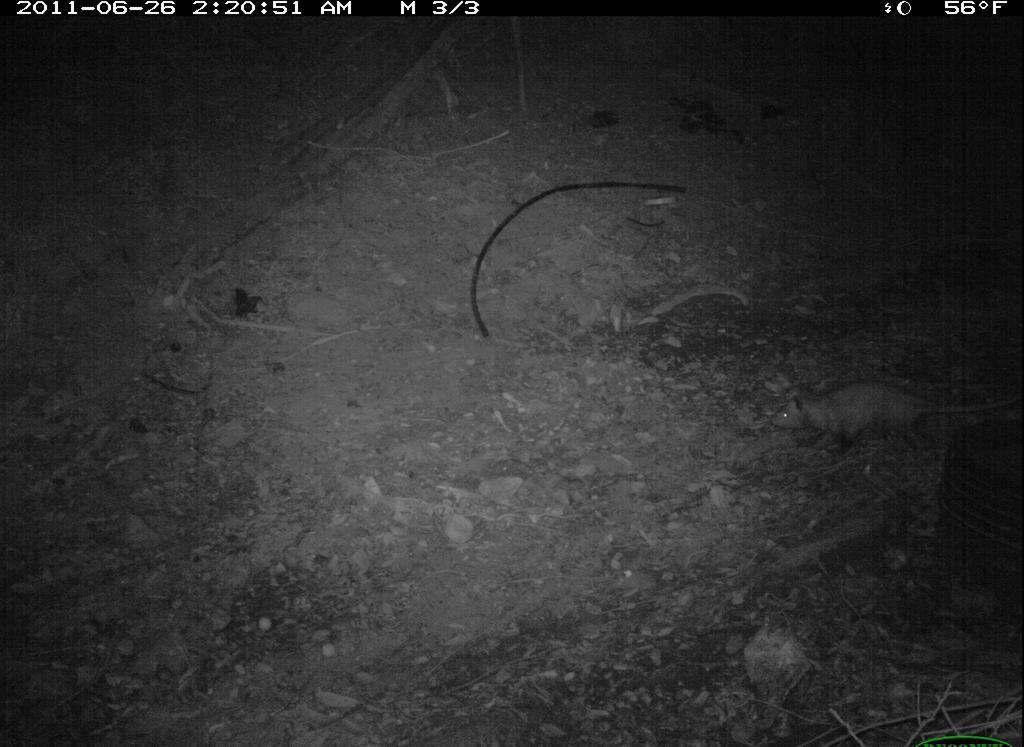opossum: (756, 367, 1022, 463)
